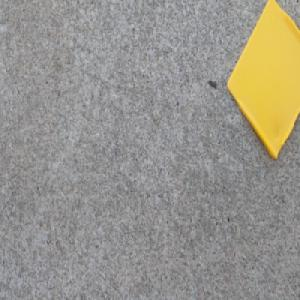PlasticPart: (224, 0, 300, 161)
